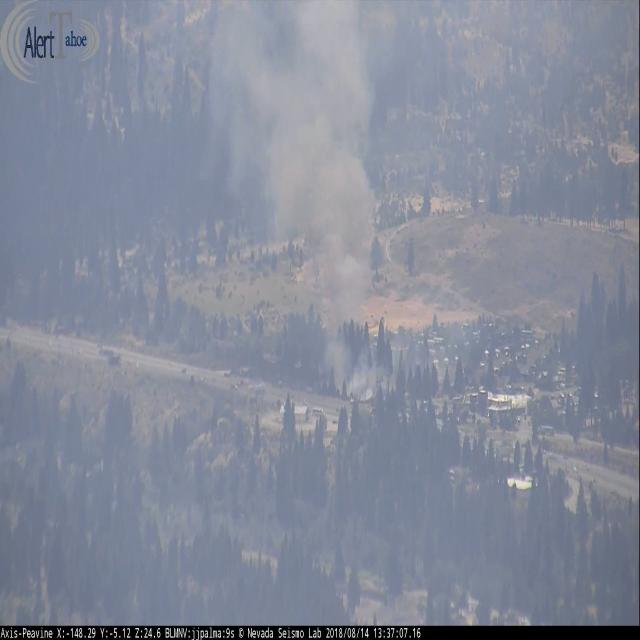smoke: (215, 0, 380, 401)
